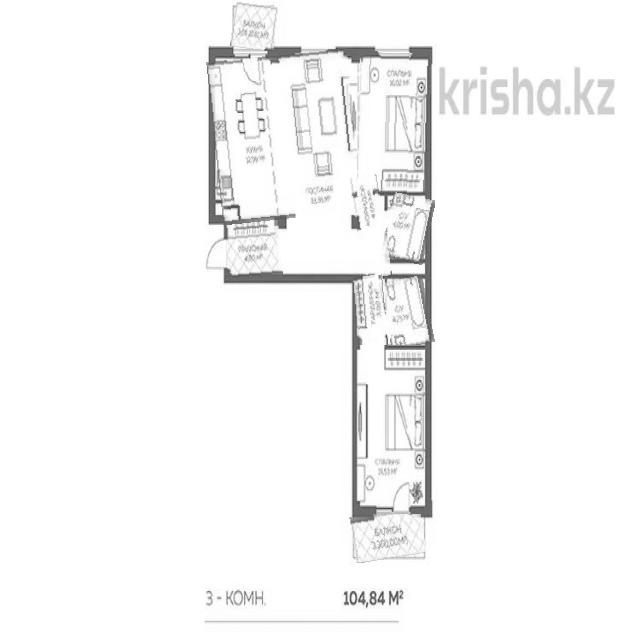balcony: (351, 508, 424, 561), (231, 3, 278, 51)
bathroom: (382, 277, 432, 349), (383, 194, 432, 264)
hallway: (353, 175, 388, 279), (226, 218, 282, 280), (355, 275, 388, 366)
living_room: (354, 345, 430, 514), (357, 51, 430, 193)
studio: (210, 52, 359, 222)
